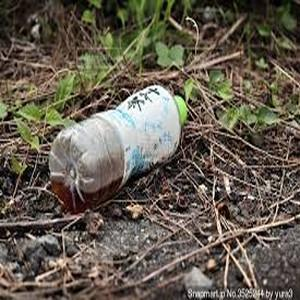Plastic: (48, 83, 194, 202)
